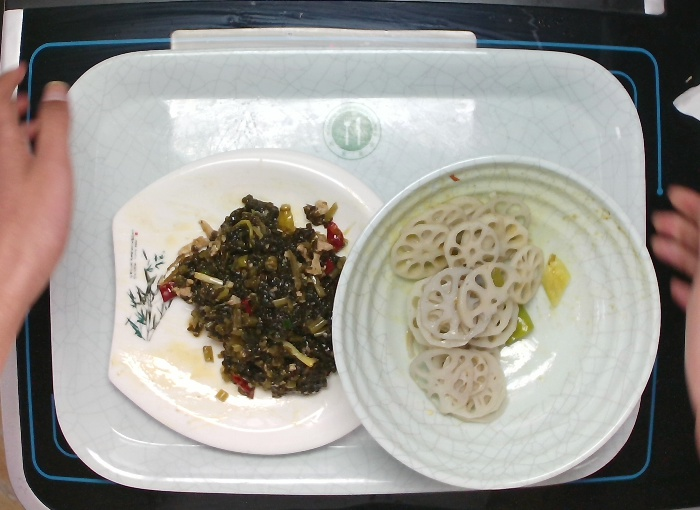JYsf-Da_Tang_Wan: (324, 152, 665, 492)
JYsf-Mian_Pan: (100, 152, 390, 459)
